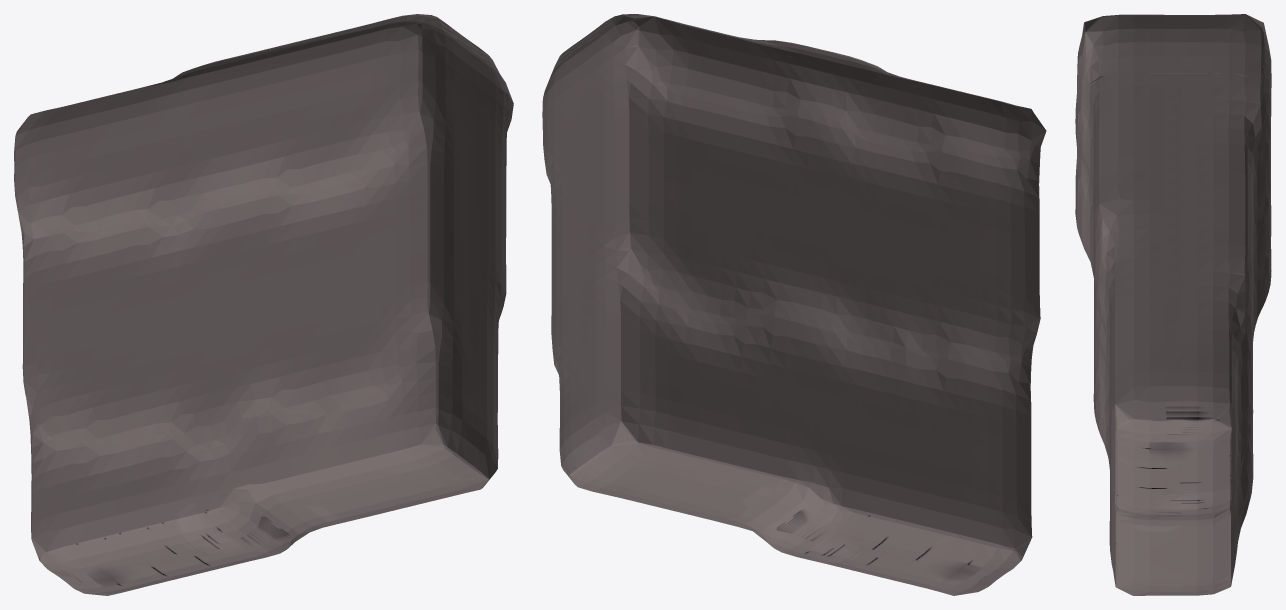
The picture shows the model from 3 angles, left to right: view 1: azimuth 30°, elevation 25°; view 2: azimuth 150°, elevation 25°; view 3: azimuth 270°, elevation 25°; orthographic projection. The views are drawn at different scales.
Visible parts, largest first — view 1: model; view 2: model; view 3: model.
Part boxes in pixels (<box>): model: <box>14,14,513,595</box>; model: <box>542,14,1046,595</box>; model: <box>1075,14,1271,595</box>.
Bounding box in the file's own units: 0.9673 × 1 × 0.4082.
Materials: 1 (1 with a texture image).
